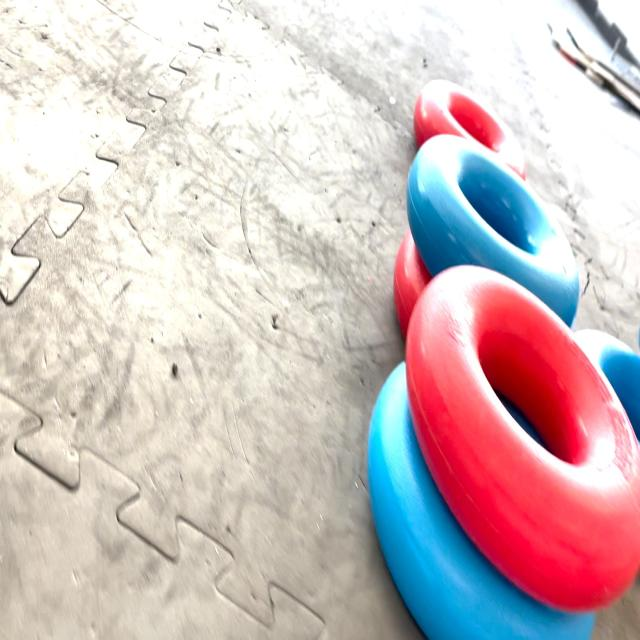Blue-Ring: (368, 362, 594, 639), (406, 136, 579, 327), (574, 329, 640, 442)
Red-Ring: (406, 264, 640, 611), (414, 80, 526, 180), (393, 235, 434, 341)
